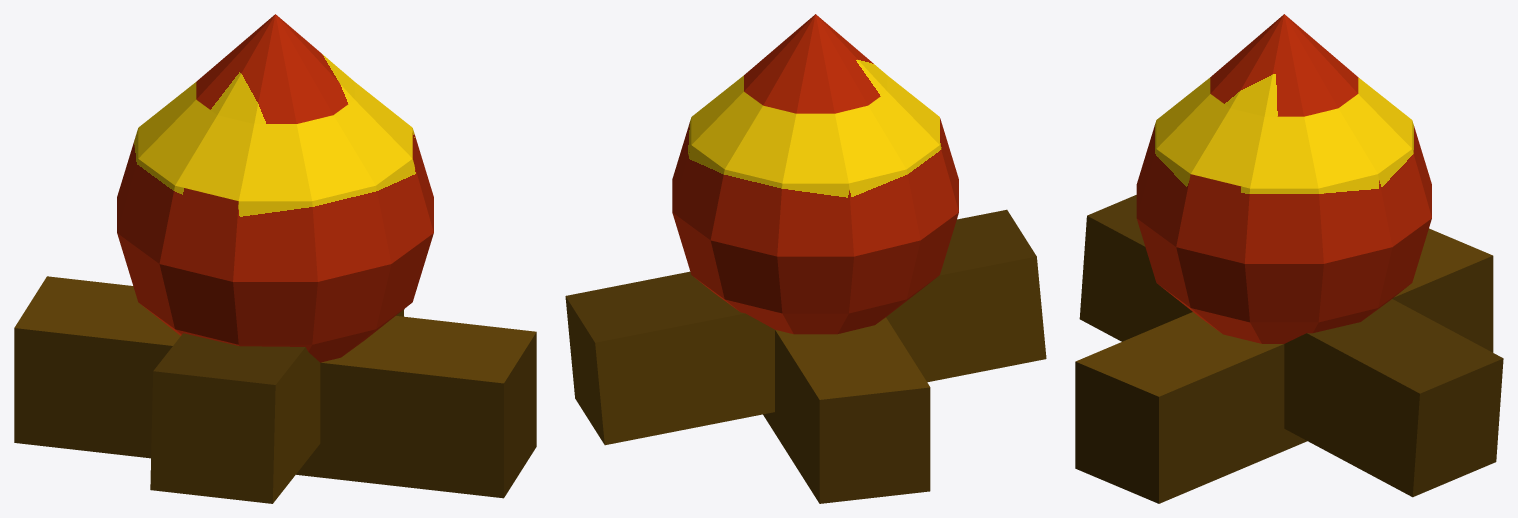
Rendered from camp_fire_3.gltf.
The picture shows the model from 3 angles, left to right: view 1: azimuth 30°, elevation 25°; view 2: azimuth 150°, elevation 25°; view 3: azimuth 270°, elevation 25°; orthographic projection. The views are drawn at different scales.
Parts seen in each view (by area): view 1: sphere; view 2: sphere; view 3: sphere.
Boxes of the visible parts, box(x1,y1,x2,y2) form: sphere: box(14, 14, 536, 503); sphere: box(565, 14, 1046, 503); sphere: box(1075, 14, 1503, 503).
Bounding box in the file's own units: 9.06 × 9.38 × 9.06.
Materials: 1 (1 with a texture image).
